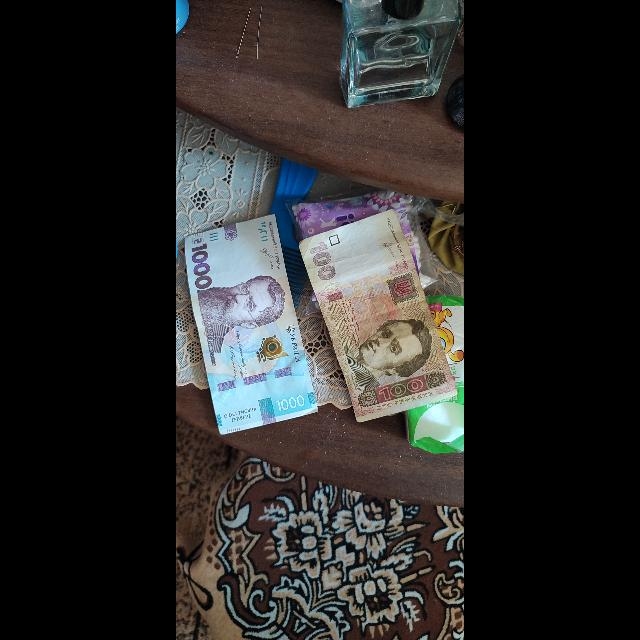1000uah: (184, 214, 318, 434)
100uah: (296, 213, 453, 425)
